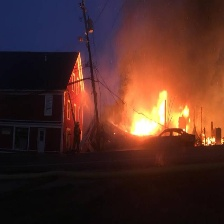fire: (129, 101, 189, 138), (202, 132, 224, 145)
smoke: (111, 1, 224, 113)
